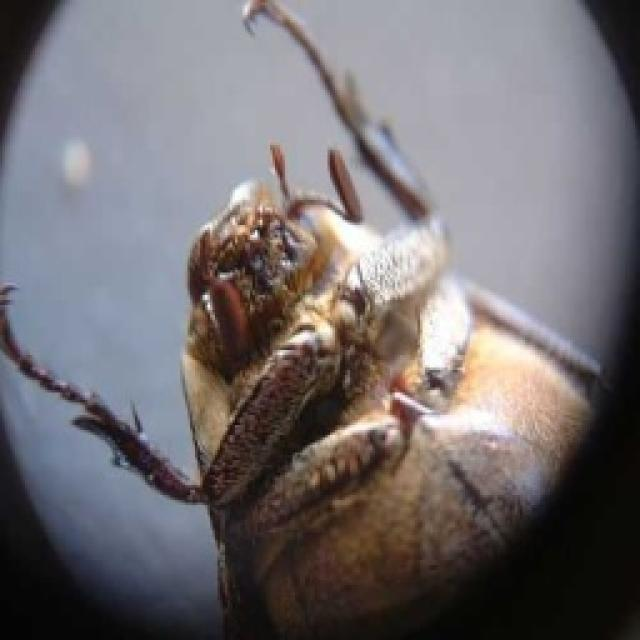cockroach: (158, 121, 640, 640)
